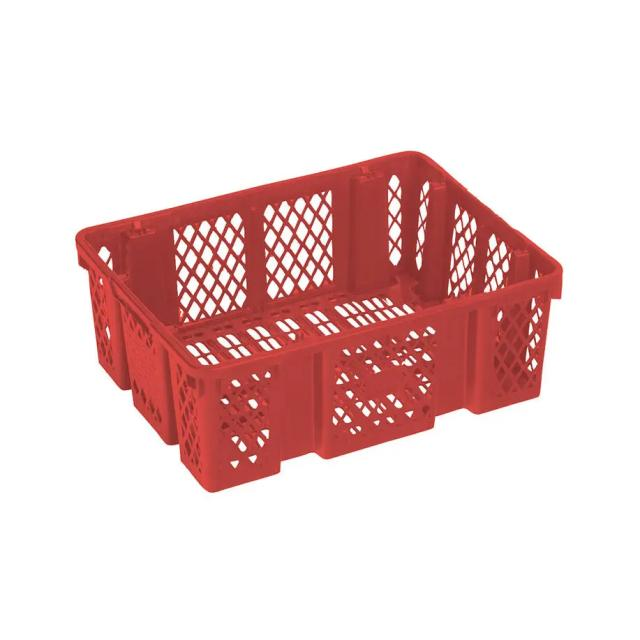basket: (65, 111, 596, 512)
